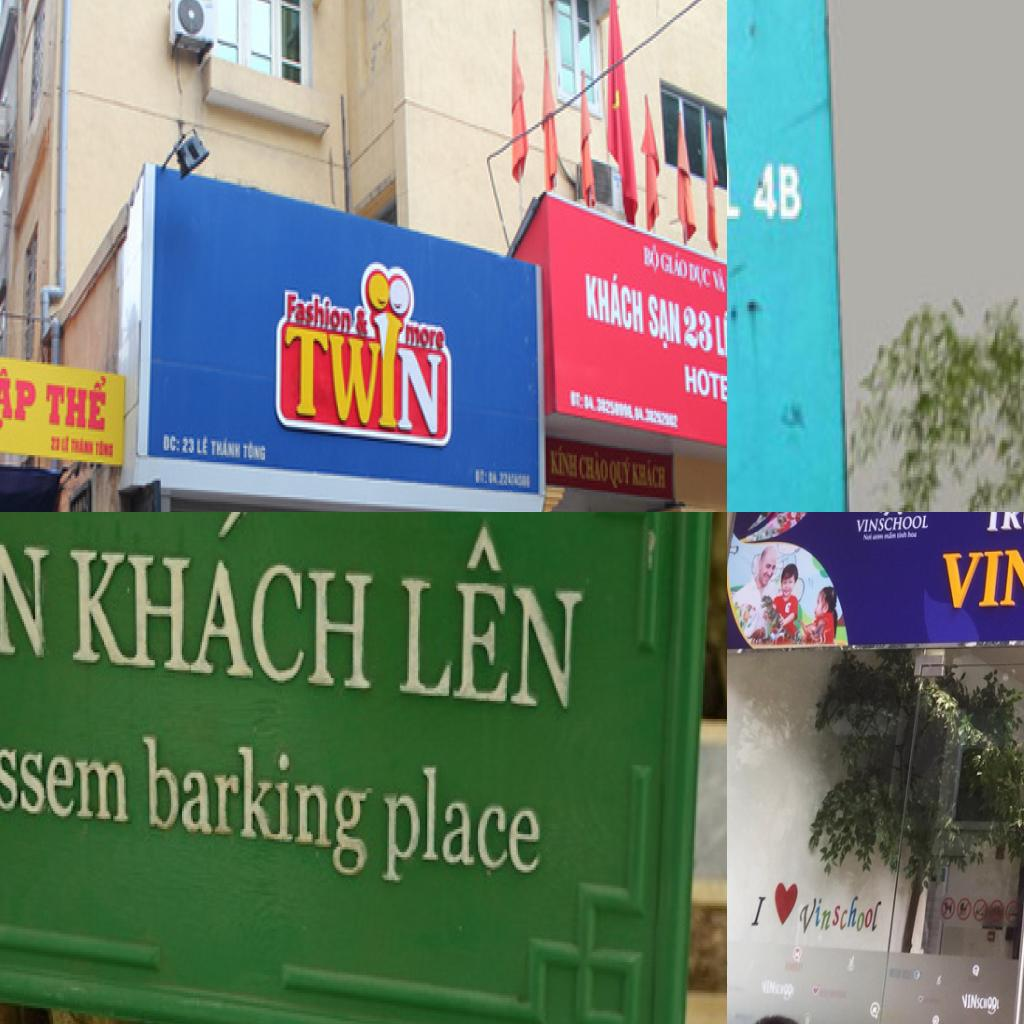text: (60, 512, 392, 708), (389, 512, 598, 744), (137, 719, 376, 895), (0, 695, 136, 839), (0, 512, 69, 670), (285, 325, 385, 429), (938, 525, 1024, 619), (642, 243, 727, 313), (790, 891, 886, 943), (584, 264, 646, 341), (397, 346, 446, 441), (42, 374, 114, 436), (752, 154, 810, 225), (374, 309, 406, 434), (285, 288, 355, 336), (0, 364, 43, 438), (647, 286, 684, 358), (684, 362, 727, 411), (48, 432, 118, 462), (682, 302, 715, 360), (727, 148, 749, 231), (854, 512, 931, 534), (958, 988, 1005, 1018), (631, 458, 670, 494), (406, 322, 448, 353), (549, 443, 580, 483), (758, 977, 799, 1005), (745, 892, 772, 932), (580, 448, 609, 485), (609, 453, 633, 492), (211, 436, 243, 464), (243, 436, 268, 467), (715, 308, 727, 364), (355, 304, 370, 339), (195, 432, 211, 460), (164, 432, 183, 455), (473, 464, 490, 488), (569, 388, 585, 413), (183, 434, 197, 458), (873, 532, 885, 542), (884, 532, 897, 541), (897, 531, 908, 541), (862, 533, 874, 542), (908, 532, 918, 540)
